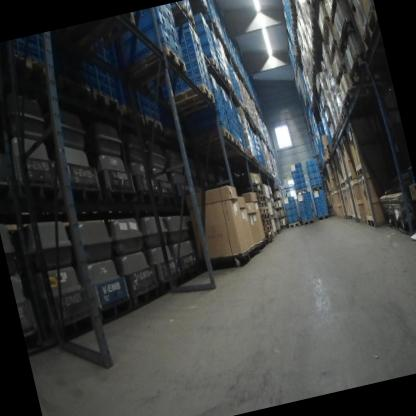pallet: (130, 43, 188, 85), (334, 17, 363, 61), (355, 8, 384, 51), (173, 84, 215, 112), (99, 296, 135, 325), (90, 83, 121, 116), (105, 182, 140, 210), (71, 180, 104, 208), (344, 53, 369, 86), (131, 287, 164, 310), (325, 0, 352, 28), (169, 2, 197, 28), (31, 179, 57, 204), (120, 101, 144, 126), (341, 88, 360, 117), (187, 0, 210, 23), (325, 39, 344, 65), (202, 55, 221, 81), (333, 63, 351, 90), (144, 111, 164, 135), (349, 0, 374, 16), (319, 21, 334, 46), (308, 11, 322, 36), (222, 125, 233, 143), (340, 107, 350, 125), (218, 71, 229, 87), (309, 36, 318, 54), (302, 217, 317, 227), (366, 217, 377, 230), (320, 101, 330, 115), (328, 141, 337, 156), (310, 0, 321, 12), (228, 82, 237, 96), (263, 222, 274, 233), (254, 193, 266, 203), (258, 205, 270, 215), (261, 217, 273, 227), (264, 230, 275, 240), (250, 154, 259, 166), (331, 134, 340, 146), (355, 166, 364, 177), (338, 121, 347, 132), (287, 222, 301, 229), (311, 185, 325, 192), (238, 142, 245, 156), (232, 136, 240, 148), (327, 119, 335, 131), (253, 183, 263, 192), (296, 189, 308, 196), (336, 126, 343, 138), (311, 50, 317, 64), (260, 212, 271, 219), (243, 147, 250, 158), (323, 143, 330, 154), (257, 200, 266, 208), (318, 214, 330, 220), (256, 189, 264, 197), (356, 215, 363, 224), (239, 100, 245, 110), (325, 155, 333, 162), (343, 177, 349, 186), (340, 182, 346, 189), (324, 149, 331, 155), (322, 156, 328, 163), (348, 174, 353, 182), (336, 183, 341, 191), (352, 215, 357, 223), (347, 214, 353, 220), (273, 230, 278, 237), (343, 213, 348, 219), (270, 214, 275, 220), (266, 197, 271, 203), (329, 189, 333, 195), (334, 212, 338, 217)
small_load_carrier: (137, 22, 175, 59), (134, 6, 174, 39), (197, 30, 213, 53), (168, 19, 181, 44), (169, 34, 182, 58), (201, 44, 216, 63), (192, 10, 207, 26), (196, 22, 209, 40), (165, 3, 175, 22), (313, 171, 322, 180), (323, 205, 330, 216), (287, 216, 295, 225), (285, 209, 293, 218), (299, 205, 306, 215), (311, 164, 319, 172), (317, 186, 325, 194), (317, 210, 325, 218), (311, 157, 318, 166), (305, 159, 312, 167), (315, 178, 322, 186), (320, 198, 327, 206), (314, 199, 321, 207), (303, 197, 311, 204), (301, 213, 309, 220), (293, 214, 300, 222), (284, 202, 291, 210), (289, 201, 297, 208), (300, 182, 308, 189), (292, 172, 299, 180), (307, 209, 313, 218), (307, 166, 314, 173), (312, 190, 319, 197), (305, 203, 312, 210), (299, 177, 306, 184), (297, 171, 304, 178), (296, 166, 303, 173), (295, 161, 302, 168), (310, 178, 316, 186), (291, 208, 297, 216), (289, 164, 297, 170), (290, 169, 298, 175), (319, 193, 326, 199), (316, 206, 323, 212), (302, 192, 309, 198), (293, 178, 300, 184), (288, 196, 294, 202), (294, 182, 300, 188), (309, 172, 314, 179), (313, 196, 319, 201)
